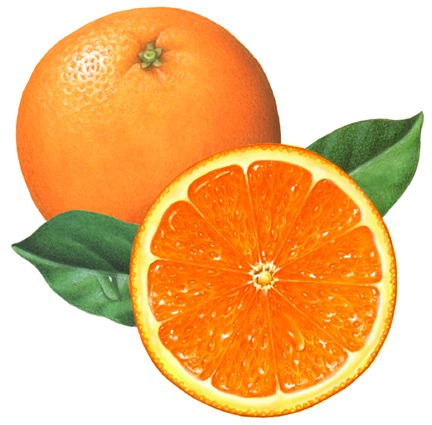orange: (11, 5, 291, 306)
